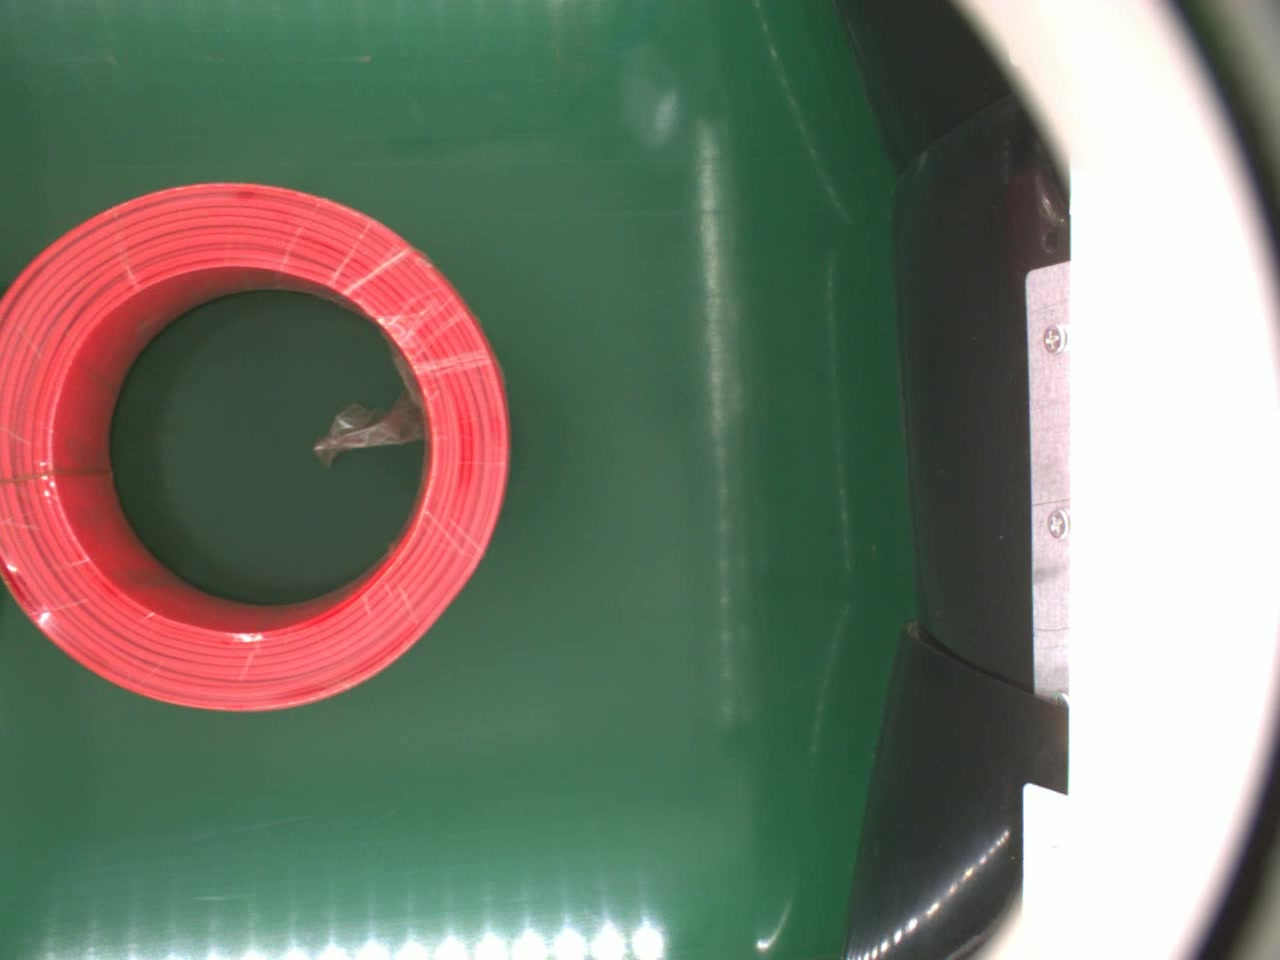red: (0, 176, 509, 715)
